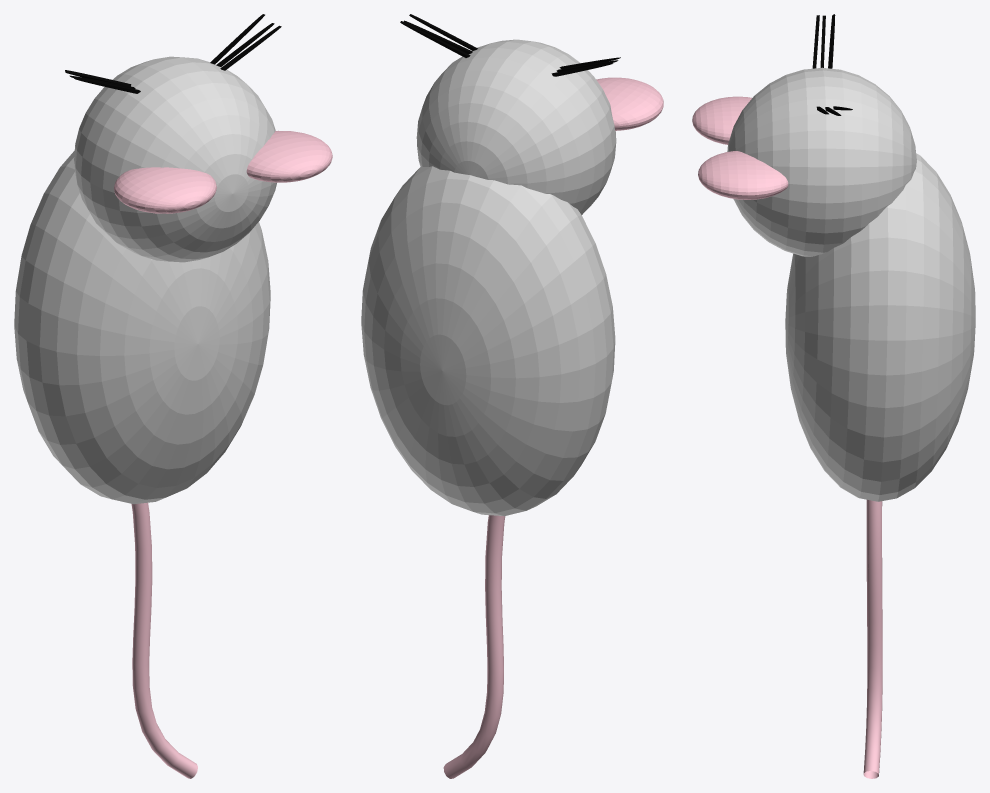
Rendered from mousemodel2.glb.
3 views of the same model, side by side, from view 1: azimuth 30°, elevation 25°; view 2: azimuth 150°, elevation 25°; view 3: azimuth 270°, elevation 25° (orthographic). The views are drawn at different scales.
Parts seen in each view (by area): view 1: Body, Head, Tail, Ear_L, Ear_R; view 2: Body, Head, Tail, Ear_L; view 3: Body, Head, Tail, Ear_R, Ear_L.
Part boxes in pixels (x1,y1,x2,y2): Body: (14, 151, 270, 504); Head: (74, 56, 276, 262); Tail: (131, 502, 197, 778); Ear_L: (114, 167, 216, 213); Ear_R: (246, 130, 332, 182); Body: (361, 166, 615, 516); Head: (416, 39, 616, 214); Tail: (443, 515, 505, 778); Ear_L: (596, 77, 663, 130); Body: (785, 153, 975, 501); Head: (727, 67, 916, 256); Tail: (863, 499, 882, 778); Ear_R: (698, 151, 788, 199); Ear_L: (692, 96, 751, 144).
Bounding box in the file's own units: 1.6 × 4.86 × 1.78.
